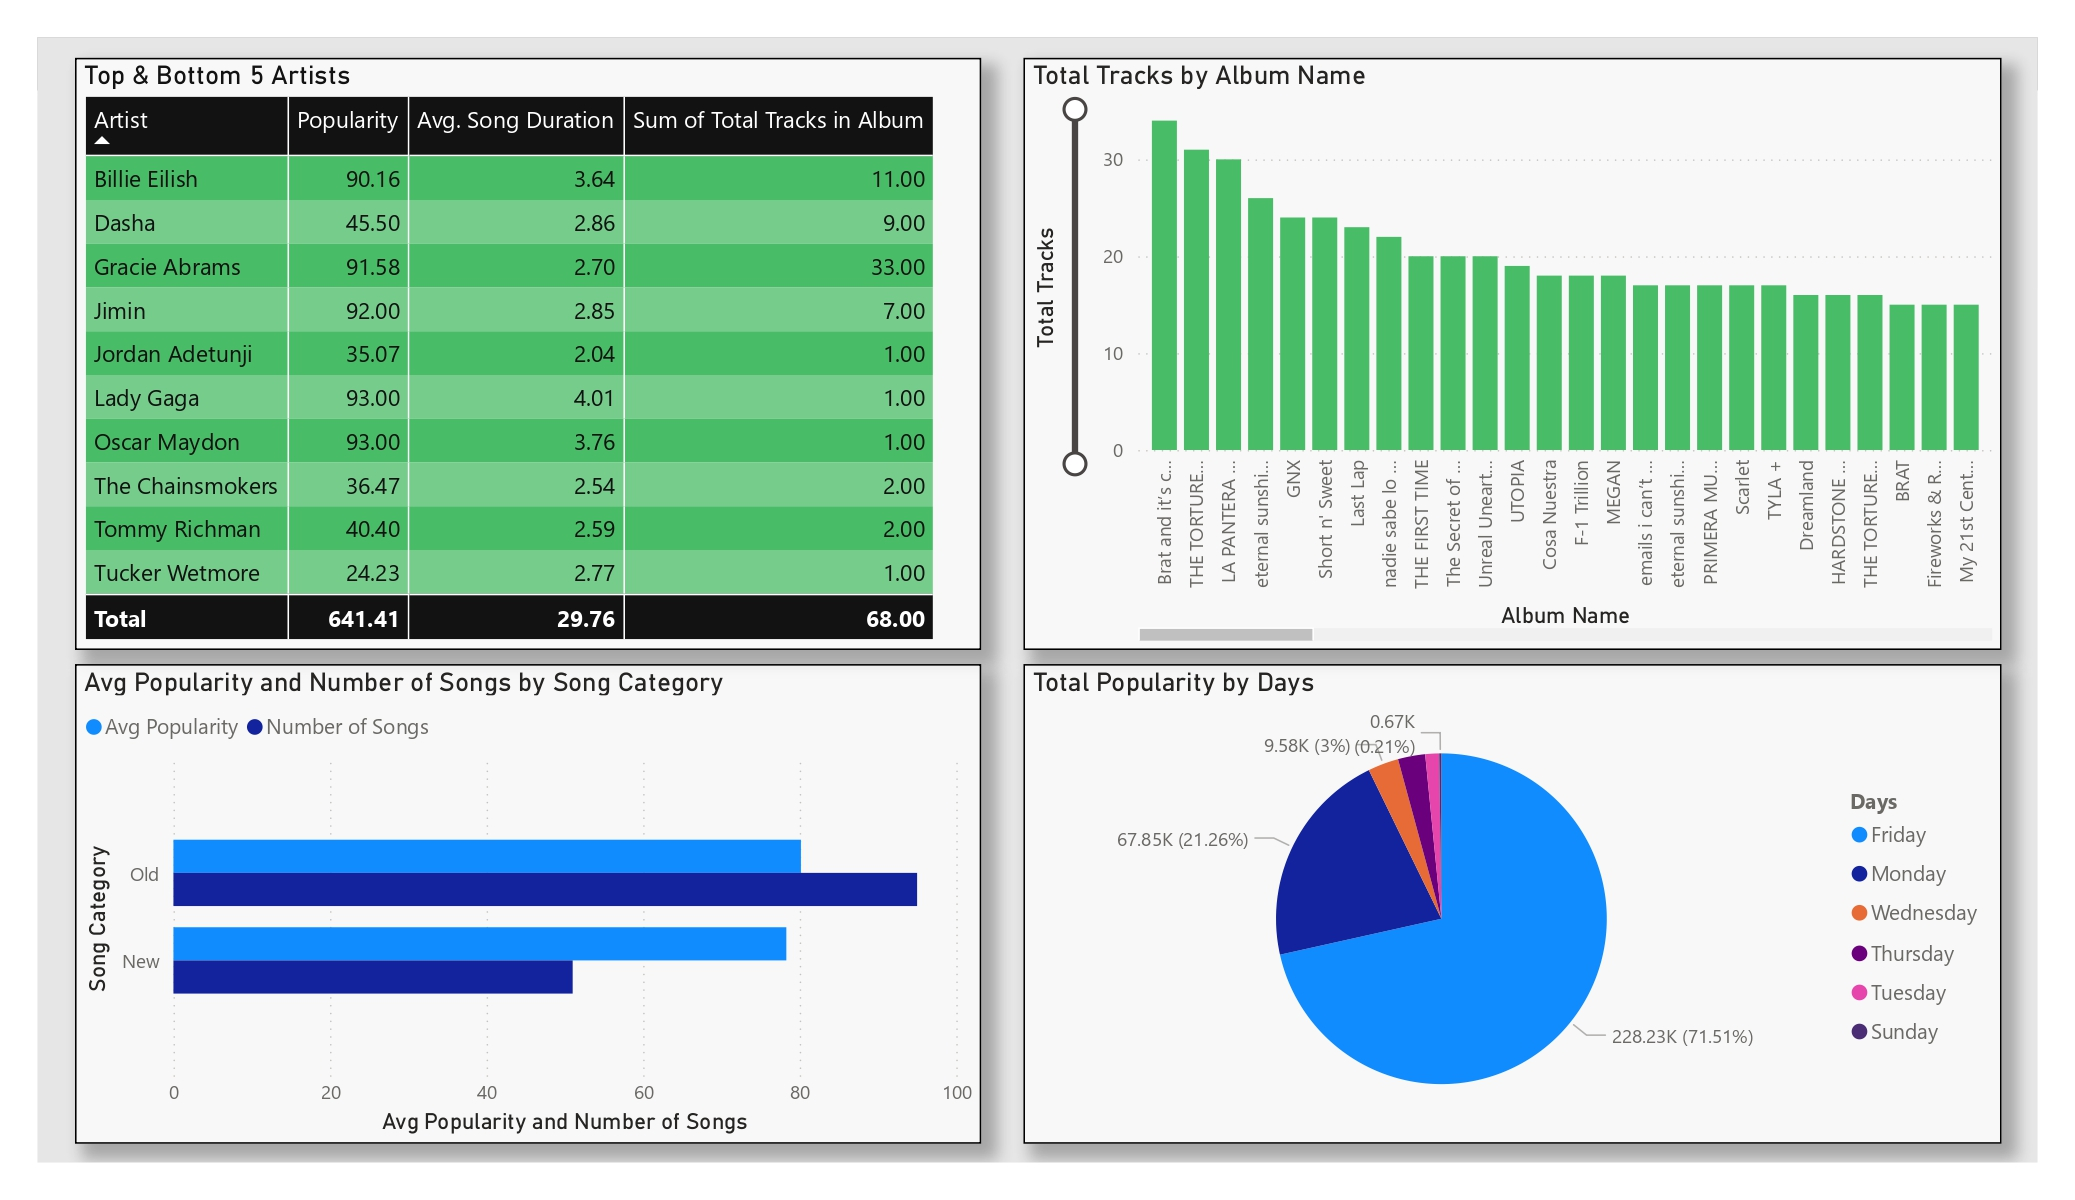

The page's visual inventory and layout, read from the dashboard file:
{"tool":"powerbi","page":{"name":"SpotifyVisualization2","canvas":[1280,720],"ordinal":1},"visuals":[{"type":"tableEx","title":"Top & Bottom 5 Artists","fields":{"Values":["TOP_BOTTOM_ARTISTS.ARTIST_NAME","TOP_BOTTOM_ARTISTS.AVG_POPULARITY_SCORE","TOP_BOTTOM_ARTISTS.AVG_SONG_DURATION_MIN","TOP_BOTTOM_ARTISTS.TOTAL_TRACKS_IN_ALBUM"]},"box":[24.4,13.3,580,378.9],"z":0},{"type":"clusteredColumnChart","fields":{"Category":["TOP_ALBUMS_BY_TOTAL_TRACKS.ALBUM_NAME"],"Y":["TOP_ALBUMS_BY_TOTAL_TRACKS.TOTAL_TRACKS"]},"box":[631.1,13.3,625.6,378.9],"z":1000},{"type":"clusteredBarChart","fields":{"Category":["NEW_VS_OLD_SONGS_PERFORMANCE.SONG_CATEGORY"],"Y":["NEW_VS_OLD_SONGS_PERFORMANCE.AVG_POPULARITY","NEW_VS_OLD_SONGS_PERFORMANCE.SONG_COUNT"]},"box":[24.4,401.1,580,306.7],"z":2000},{"type":"pieChart","fields":{"Category":["LISTENER_ENGAGEMENT_HEATMAP.DAY_OF_WEEK"],"Y":["LISTENER_ENGAGEMENT_HEATMAP.TOTAL_POPULARITY"]},"box":[631.1,401.1,625.6,306.7],"z":3000}]}

Visuals, with their boxes on the page's 1280x720 design canvas (x1, y1, x2, y2). These are canvas units, not pixel positions in the 2075x1200 screenshot, which may show the page scaled, cropped or inside an application window:
"Top & Bottom 5 Artists" tableEx: box=[24, 13, 604, 392]
clusteredColumnChart - TOP_ALBUMS_BY_TOTAL_TRACKS.ALBUM_NAME x TOP_ALBUMS_BY_TOTAL_TRACKS.TOTAL_TRACKS: box=[631, 13, 1257, 392]
clusteredBarChart - NEW_VS_OLD_SONGS_PERFORMANCE.SONG_CATEGORY x NEW_VS_OLD_SONGS_PERFORMANCE.AVG_POPULARITY: box=[24, 401, 604, 708]
pieChart - LISTENER_ENGAGEMENT_HEATMAP.DAY_OF_WEEK x LISTENER_ENGAGEMENT_HEATMAP.TOTAL_POPULARITY: box=[631, 401, 1257, 708]
